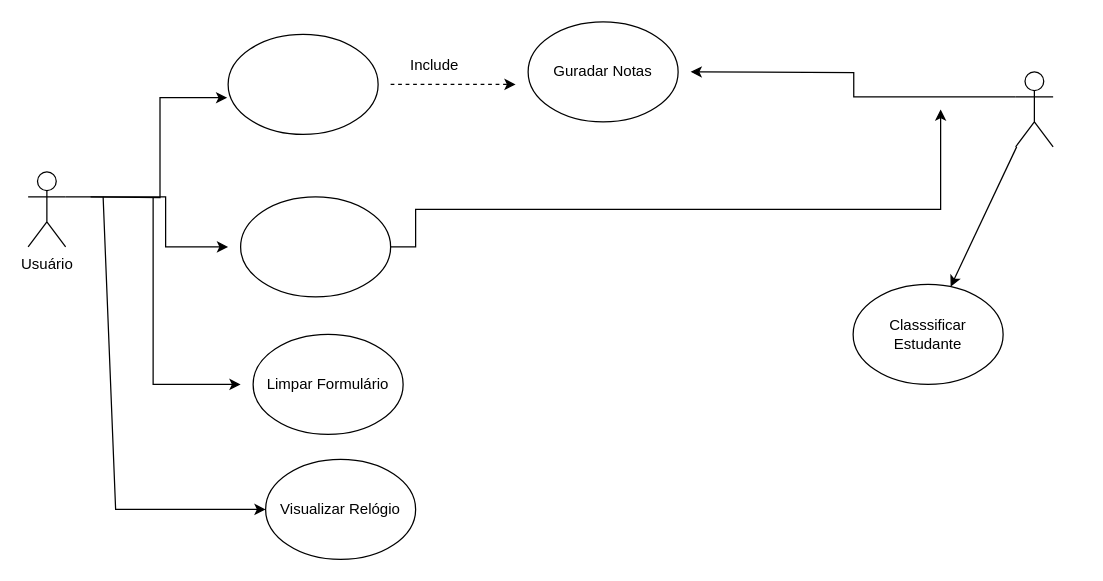
Some shapes in this 1103 by 581 pixel diagram are drawn without their labels. Each missing label, with the centre of its shape:
Consultar Notas: the point at 315,246
Inserir Dados: the point at 302,83
Sistema Local: the point at 1033,109
